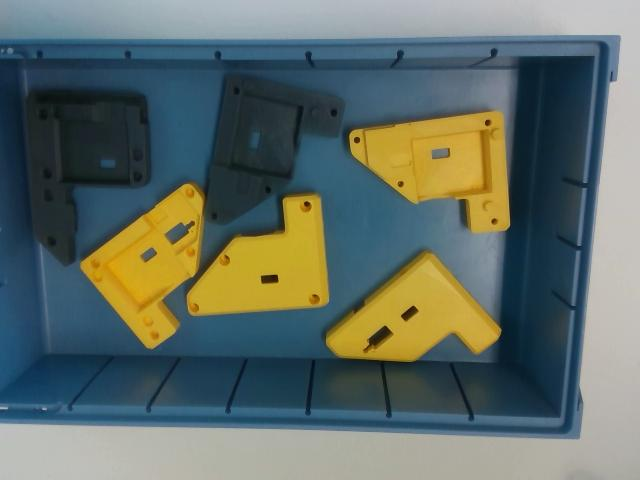1Agray: (201, 64, 346, 224)
1Ayellow: (349, 109, 513, 232), (188, 191, 332, 316)
1Byellow: (324, 246, 502, 364), (80, 183, 203, 349), (503, 307, 515, 308)
3Bgray: (20, 88, 153, 266)
